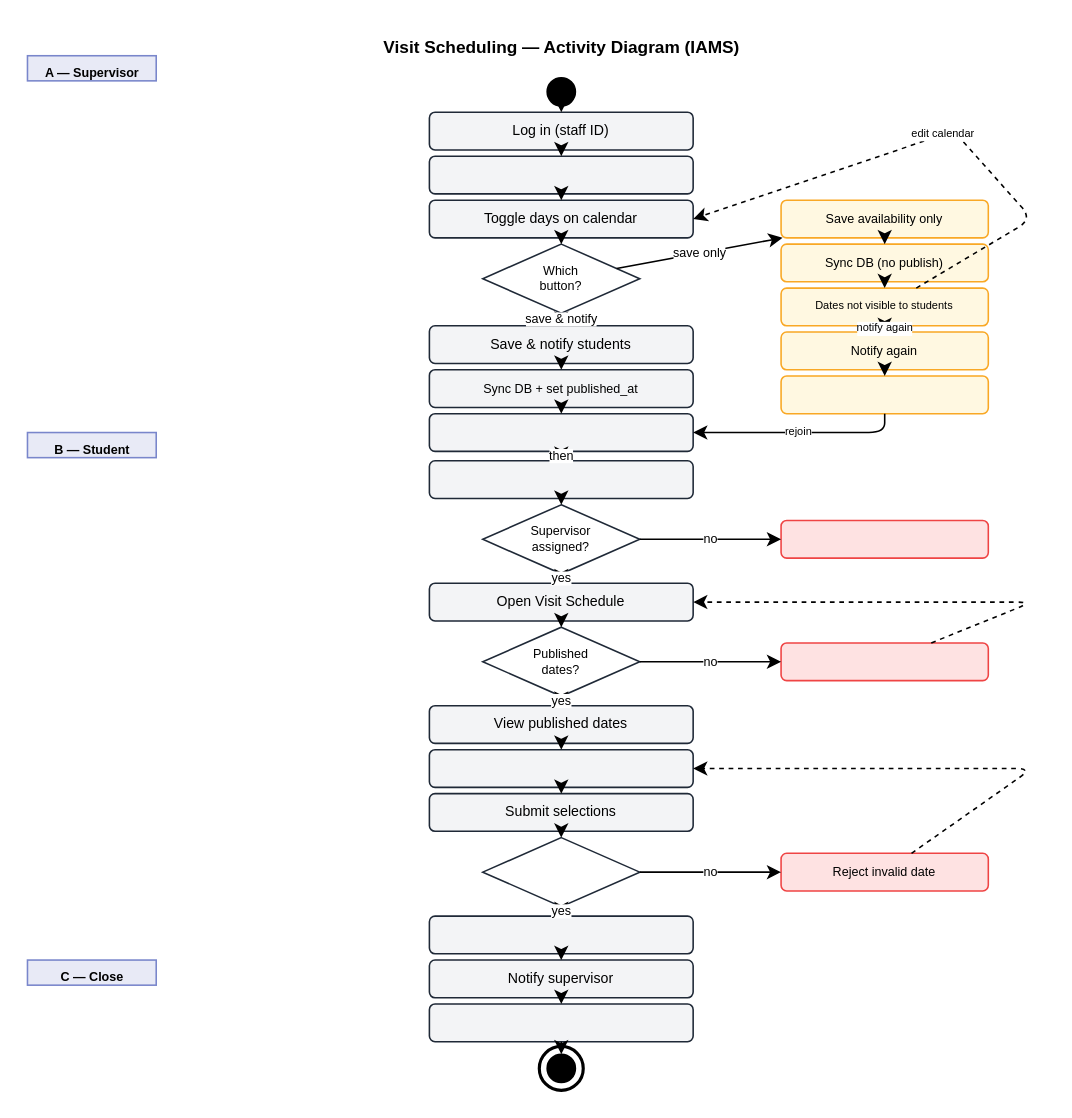
The diagram is 1072 pixels wide and 1118 high, and some of its shapes have lost their labels. Here are the shapes that lost their labels. From the top down, the centre of each, then its label:
At (560,174): "Open Visit Scheduling".
At (884,394): "Publish + notify students".
At (560,431): "Notify students (in-system)".
At (560,478): "Log in (index number)".
At (884,538): "Show: no supervisor".
At (884,661): "Wait / refresh page".
At (560,767): "Select date(s) on calendar".
At (560,871): "Dates valid?".
At (560,934): "Save selections".
At (560,1022): "Supervisor views students by date".
